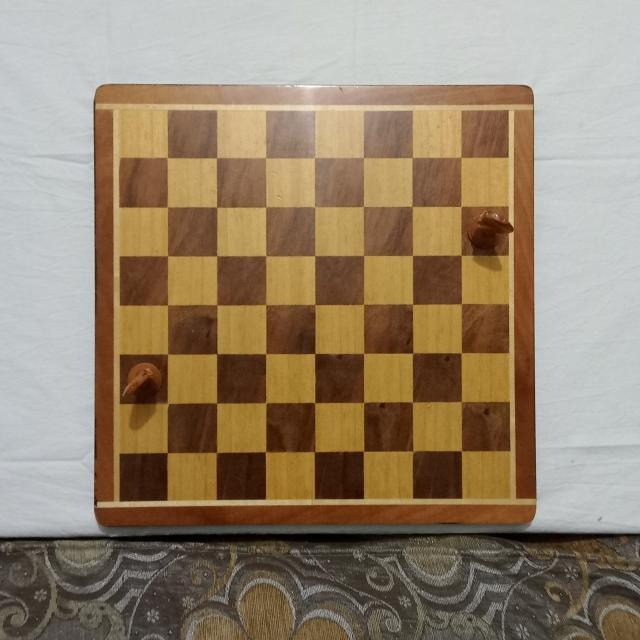white-knight: (469, 208, 517, 248), (120, 360, 164, 400)
